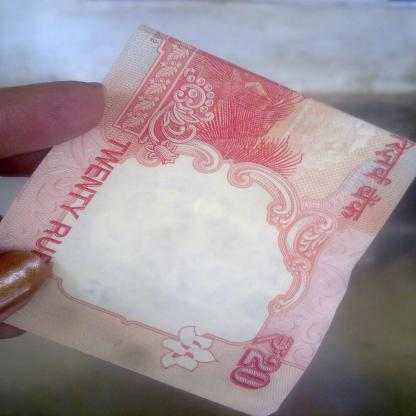Old20Back: (0, 33, 404, 402)
